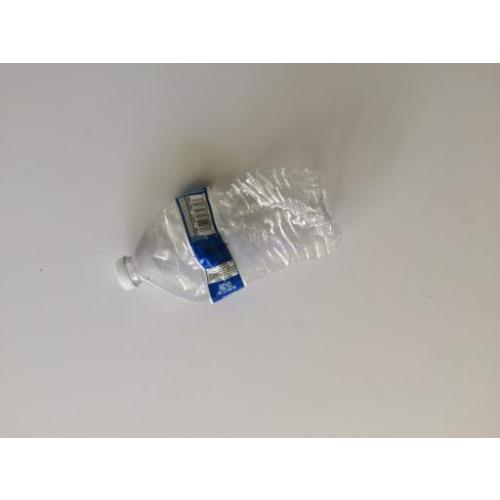plastic: (113, 162, 341, 308)
